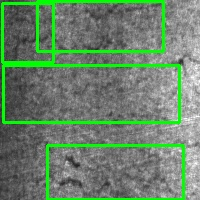crazing: (3, 65, 179, 122), (47, 145, 183, 199), (37, 1, 163, 51), (2, 3, 53, 62)
